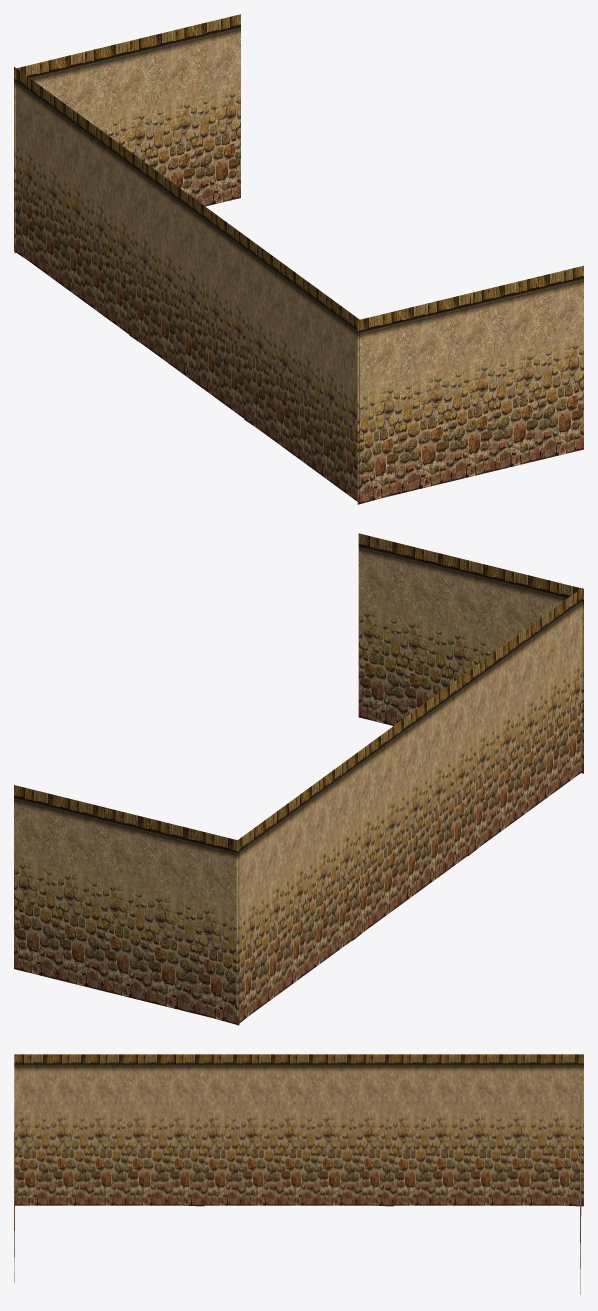
File: Pared.obj
The picture shows the model from 3 angles, top to bottom: view 1: azimuth 30°, elevation 25°; view 2: azimuth 150°, elevation 25°; view 3: azimuth 270°, elevation 25°; orthographic projection. The views are drawn at different scales.
Visible parts, largest first — view 1: Pared_Larga_geom-03D75826.019_material-0209F83C.022, Pared_Larga_geom-03D75826.019_material-0209F83C.018, Pared_Larga_geom-03D75826.019_material-0209F83C.020, Pared_Larga_geom-03D75826.019_material-0209F83C.019, Pared_Larga_geom-03D75826.019_material-0209F83C.021, Pared_Larga_geom-03D75826.019_material-0151D5D9.022, Pared_Larga_geom-03D75826.019_material-0151D5D9.018, Pared_Larga_geom-03D75826.019_material-0151D5D9.020, Pared_Larga_geom-03D75826.019_material-0151D5D9.021, Pared_Larga_geom-03D75826.019_material-0151D5D9.019; view 2: Pared_Larga_geom-03D75826.019_material-0209F83C.018, Pared_Larga_geom-03D75826.019_material-0209F83C.022, Pared_Larga_geom-03D75826.019_material-0209F83C.021, Pared_Larga_geom-03D75826.019_material-0209F83C.020, Pared_Larga_geom-03D75826.019_material-0209F83C.019, Pared_Larga_geom-03D75826.019_material-0151D5D9.018, Pared_Larga_geom-03D75826.019_material-0151D5D9.022, Pared_Larga_geom-03D75826.019_material-0151D5D9.021, Pared_Larga_geom-03D75826.019_material-0151D5D9.020, Pared_Larga_geom-03D75826.019_material-0151D5D9.019; view 3: Pared_Larga_geom-03D75826.019_material-0209F83C.020, Pared_Larga_geom-03D75826.019_material-0209F83C.021, Pared_Larga_geom-03D75826.019_material-0209F83C.019, Pared_Larga_geom-03D75826.019_material-0151D5D9.021, Pared_Larga_geom-03D75826.019_material-0151D5D9.020, Pared_Larga_geom-03D75826.019_material-0151D5D9.019, Pared_Larga_geom-03D75826.019_material-0209F83C.018.
Part boxes in pixels (x1,y1,x2,y2): Pared_Larga_geom-03D75826.019_material-0209F83C.022: (357, 279, 583, 504); Pared_Larga_geom-03D75826.019_material-0209F83C.018: (14, 28, 240, 252); Pared_Larga_geom-03D75826.019_material-0209F83C.020: (129, 165, 244, 418); Pared_Larga_geom-03D75826.019_material-0209F83C.019: (14, 80, 129, 334); Pared_Larga_geom-03D75826.019_material-0209F83C.021: (244, 249, 359, 502); Pared_Larga_geom-03D75826.019_material-0151D5D9.022: (357, 265, 583, 333); Pared_Larga_geom-03D75826.019_material-0151D5D9.018: (14, 14, 240, 82); Pared_Larga_geom-03D75826.019_material-0151D5D9.020: (129, 151, 244, 248); Pared_Larga_geom-03D75826.019_material-0151D5D9.021: (244, 235, 359, 332); Pared_Larga_geom-03D75826.019_material-0151D5D9.019: (14, 67, 129, 164); Pared_Larga_geom-03D75826.019_material-0209F83C.018: (14, 799, 239, 1025); Pared_Larga_geom-03D75826.019_material-0209F83C.022: (358, 547, 583, 773); Pared_Larga_geom-03D75826.019_material-0209F83C.021: (467, 602, 582, 856); Pared_Larga_geom-03D75826.019_material-0209F83C.020: (352, 686, 467, 940); Pared_Larga_geom-03D75826.019_material-0209F83C.019: (236, 771, 352, 1025); Pared_Larga_geom-03D75826.019_material-0151D5D9.018: (14, 785, 239, 854); Pared_Larga_geom-03D75826.019_material-0151D5D9.022: (358, 533, 583, 602); Pared_Larga_geom-03D75826.019_material-0151D5D9.021: (467, 587, 582, 685); Pared_Larga_geom-03D75826.019_material-0151D5D9.020: (352, 672, 467, 769); Pared_Larga_geom-03D75826.019_material-0151D5D9.019: (236, 757, 351, 854); Pared_Larga_geom-03D75826.019_material-0209F83C.020: (204, 1065, 394, 1206); Pared_Larga_geom-03D75826.019_material-0209F83C.021: (14, 1065, 204, 1206); Pared_Larga_geom-03D75826.019_material-0209F83C.019: (394, 1065, 583, 1206); Pared_Larga_geom-03D75826.019_material-0151D5D9.021: (14, 1054, 204, 1065); Pared_Larga_geom-03D75826.019_material-0151D5D9.020: (204, 1054, 393, 1065); Pared_Larga_geom-03D75826.019_material-0151D5D9.019: (394, 1054, 583, 1065); Pared_Larga_geom-03D75826.019_material-0209F83C.018: (580, 1077, 581, 1294).
Bounding box in the file's own units: 9.08 × 7.11 × 24.04.
